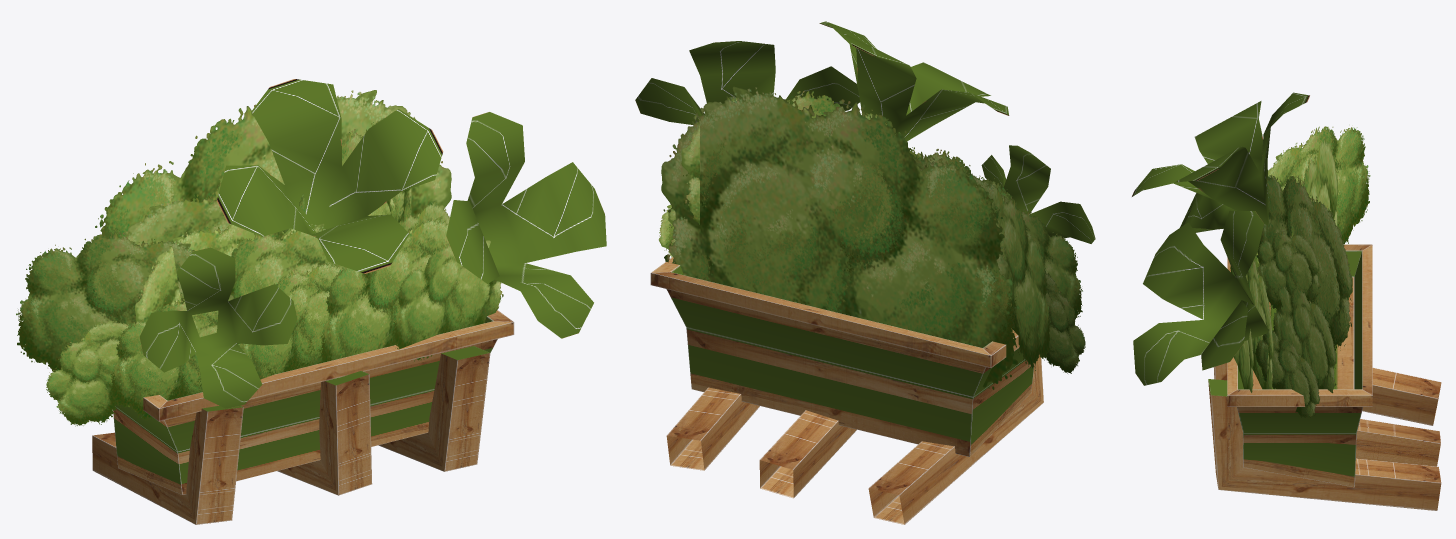
Rendered from flowerBox03.fbx.
3 renders of one model, left to right at view 1: azimuth 30°, elevation 25°; view 2: azimuth 150°, elevation 25°; view 3: azimuth 270°, elevation 25°, orthographic. The views are drawn at different scales.
Visible parts, largest first — view 1: Flower03; view 2: Flower03; view 3: Flower03.
Part boxes in pixels (x1,y1,x2,y2): Flower03: (16,79,606,524); Flower03: (635,21,1095,524); Flower03: (1132,92,1441,510).
Bounding box in the file's own units: 6.35 × 4.79 × 3.66.
